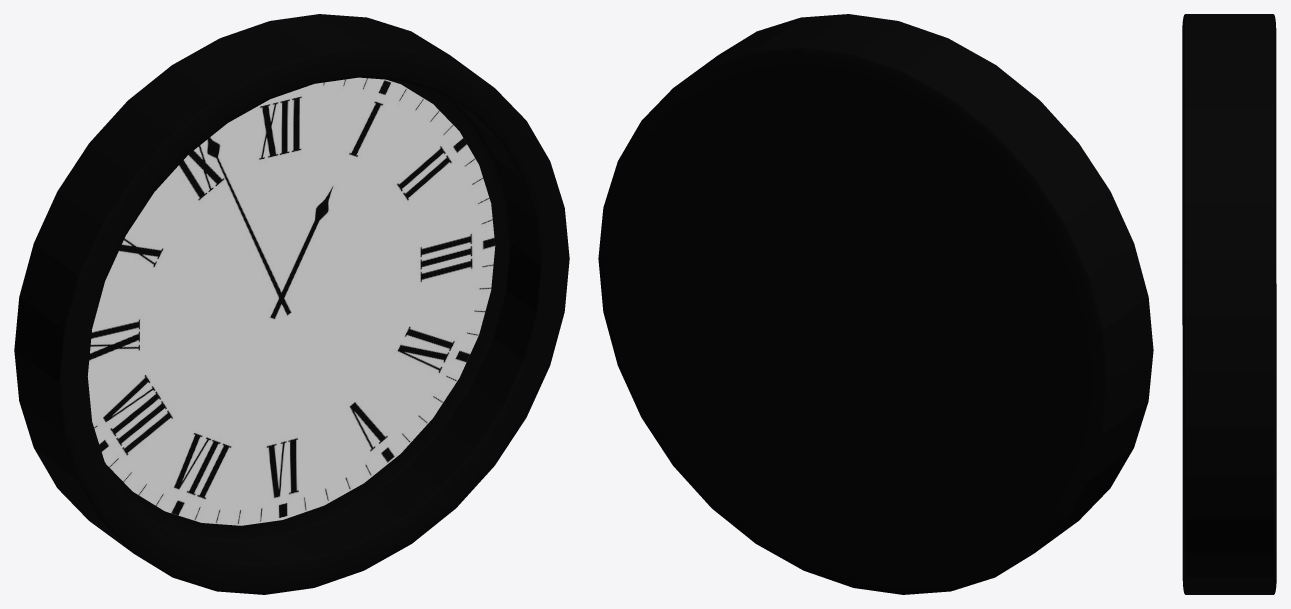
File: clock.gltf
3 views of the same model, side by side, from view 1: azimuth 30°, elevation 25°; view 2: azimuth 150°, elevation 25°; view 3: azimuth 270°, elevation 25° (orthographic).
Parts seen in each view (by area): view 1: Cylinder; view 2: Cylinder; view 3: Cylinder.
Boxes of the visible parts, <box> form: Cylinder: <box>14,14,569,594</box>; Cylinder: <box>598,14,1153,594</box>; Cylinder: <box>1182,14,1276,594</box>.
Size of the model in its own units: 2 by 2 by 0.3243.
2 materials, 1 textured.
